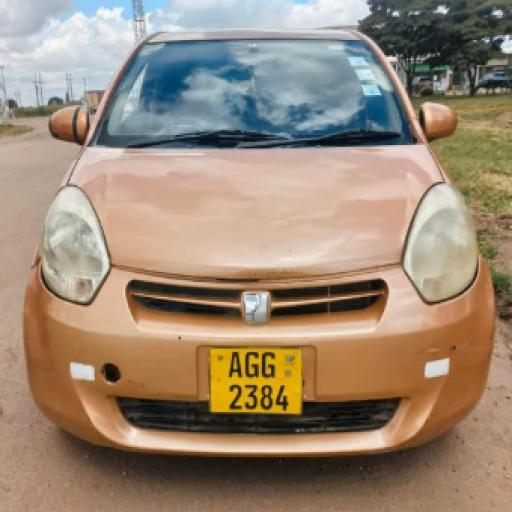number-plates: (208, 346, 302, 417)
